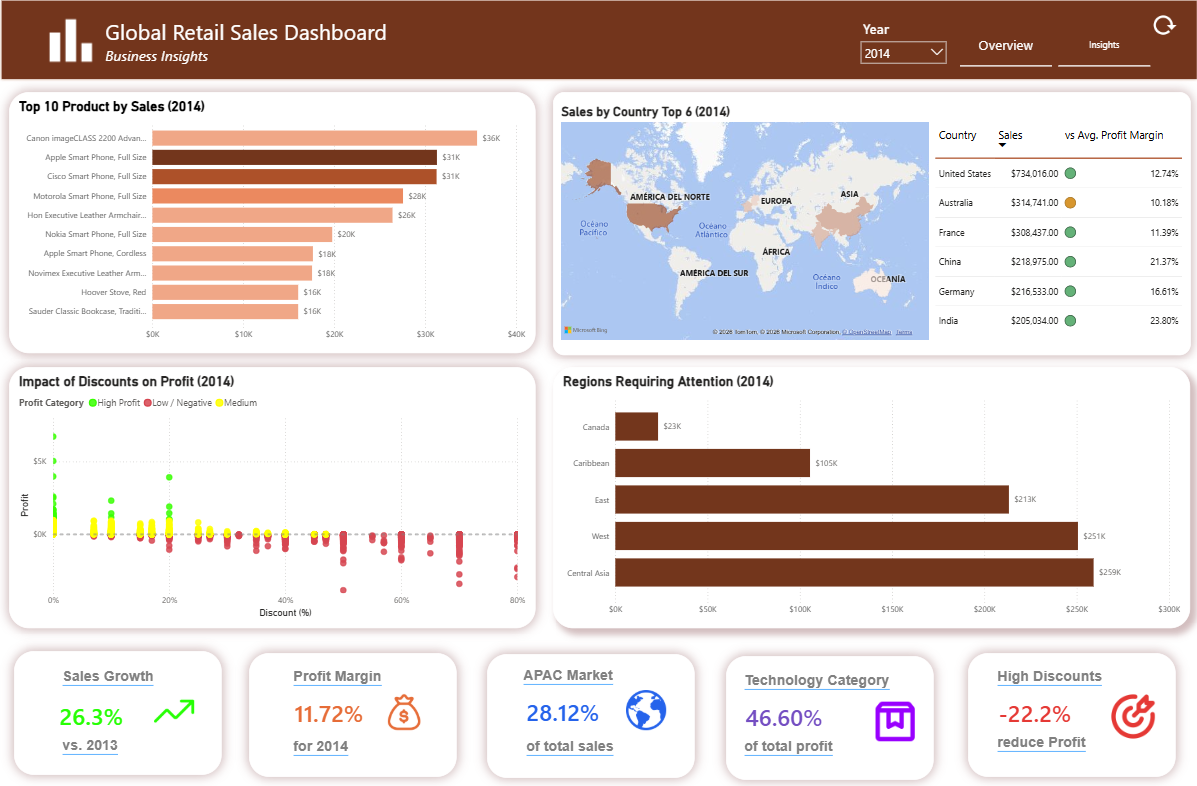

The page's visual inventory and layout, read from the dashboard file:
{"tool":"powerbi","page":{"name":"Insights","canvas":[1790,1180],"ordinal":1},"visuals":[{"type":"barChart","fields":{"Category":["DimProduct.ProductName"],"Y":["Table Measures.Total Sales"]},"box":[14.3,140,786,390],"z":0},{"type":"barChart","fields":{"Category":["DimGeography.Region"],"Y":["Table Measures.Total Sales"]},"box":[827.1,551.4,951.4,390],"z":0,"group":"g2"},{"type":"scatterChart","fields":{"X":["FactSales.Discount"],"Y":["FactSales.Profit"],"Series":["FactSales.Profit Category"]},"box":[14.3,551.4,785.7,390],"z":1000},{"type":"shape","box":[826.7,140,951.7,393.3],"z":1500,"group":"g1"},{"type":"group","id":"g1","title":"Group 1","box":[826.7,140,951.7,393.3],"z":2000},{"type":"group","id":"g2","title":"Group 2","box":[827.1,551.4,951.4,390],"z":3000},{"type":"group","id":"g3","title":"Group 3","box":[0,0,1791.7,125],"z":4000},{"type":"shape","box":[21.7,975,310,185],"z":4000,"group":"g6"},{"type":"group","id":"g4","title":"Group 4","box":[1085.4,982.1,310,185],"z":5000},{"type":"cardVisual","fields":{"Data":["Table Measures.Sales Growth %"]},"box":[60,1034.4,170,71.1],"z":5000,"group":"g6"},{"type":"group","id":"g5","title":"Group 4","box":[1446.7,978.3,310,185],"z":6000},{"type":"filledMap","fields":{"Category":["DimGeography.Country"]},"box":[834.1,157.5,558.9,357],"z":7000,"group":"g1"},{"type":"group","id":"g6","title":"Group 5","box":[21.7,975,310,185],"z":7000},{"type":"textbox","box":[88.9,1099.4,114.3,50],"z":7000,"group":"g6"},{"type":"group","id":"g7","title":"Group 6","box":[372.9,977.1,310,185],"z":8000},{"type":"textbox","box":[88.8,996.2,171.2,43.8],"z":8000,"group":"g6"},{"type":"pivotTable","fields":{"Rows":["DimGeography.Country"],"Values":["Table Measures.Total Sales","Table Measures.Profit Margin"]},"box":[1393,176.3,385.4,354.5],"z":8500,"group":"g1"},{"type":"group","id":"g8","title":"Group 7","box":[727.9,978.4,310,185],"z":9000},{"type":"image","box":[230,1028.6,60,71.4],"z":9000,"group":"g6"},{"type":"shape","box":[0,0,1791.7,125],"z":10000,"group":"g3"},{"type":"image","box":[1707.8,22.2,64.3,35.7],"z":10000},{"type":"shape","box":[372.9,977.1,310,185],"z":10000,"group":"g7"},{"type":"textbox","box":[154.5,21.7,631.1,96.7],"z":11000,"group":"g3"},{"type":"cardVisual","fields":{"Data":["Table Measures.Profit Margin"]},"box":[411.2,1028.8,173,71],"z":11000,"group":"g7"},{"type":"image","box":[59.6,15,94.9,96.7],"z":12000,"group":"g3"},{"type":"textbox","box":[434.5,995.5,157.1,44.3],"z":12000,"group":"g7"},{"type":"slicer","fields":{"Values":["DimDate.Year"]},"box":[1276.7,30,148.3,80],"z":13000,"group":"g3"},{"type":"textbox","box":[434.5,1098.8,108.9,40],"z":13000,"group":"g7"},{"type":"pageNavigator","box":[1434.4,36.7,284.6,65],"z":14000,"group":"g3"},{"type":"image","box":[574.5,1030,60,71.4],"z":14000,"group":"g7"},{"type":"shape","box":[727.9,978.4,310,185],"z":15000,"group":"g8"},{"type":"cardVisual","fields":{"Data":["Table Measures.Top Market Share %"]},"box":[758.1,1027.8,177.5,71.2],"z":16000,"group":"g8"},{"type":"textbox","box":[777.8,993.3,165.6,44.4],"z":17000,"group":"g8"},{"type":"textbox","box":[781.8,1099,148.8,50],"z":18000,"group":"g8"},{"type":"image","box":[935.6,1026.5,60,71.4],"z":19000,"group":"g8"},{"type":"shape","box":[1446.7,978.3,310,185],"z":21000,"group":"g5"},{"type":"shape","box":[1085.4,982.1,310,185],"z":21000,"group":"g4"},{"type":"textbox","box":[1485.9,996.6,241.7,48.3],"z":22000,"group":"g5"},{"type":"textbox","box":[1108.4,1001.6,241.7,48.3],"z":22000,"group":"g4"},{"type":"image","box":[1653.5,1029.8,78.3,85],"z":23000,"group":"g5"},{"type":"image","box":[1298.9,1037.7,78.3,85],"z":23000,"group":"g4"},{"type":"cardVisual","fields":{"Data":["Table Measures.High Discount Profit Margin"]},"box":[1463.1,1030.5,177.5,71.2],"z":24000,"group":"g5"},{"type":"cardVisual","fields":{"Data":["Table Measures.Top Category Profit Share %"]},"box":[1085.6,1035.5,177.5,71.2],"z":24000,"group":"g4"},{"type":"textbox","box":[1485.4,1094.9,165,48.3],"z":25000,"group":"g5"},{"type":"textbox","box":[1107.8,1100,165,48.3],"z":25000,"group":"g4"}]}

Visuals, with their boxes in screenshot pixels (x1, y1, x2, y2), scaled from the page's 1790x1180 canvas onto the 1197x786 screenshot:
barChart - DimProduct.ProductName x Table Measures.Total Sales: (10, 93, 535, 353)
barChart - DimGeography.Region x Table Measures.Total Sales: (553, 367, 1189, 627)
scatterChart - FactSales.Discount x FactSales.Profit: (10, 367, 535, 627)
shape: (553, 93, 1189, 355)
"Group 1" group: (553, 93, 1189, 355)
"Group 2" group: (553, 367, 1189, 627)
"Group 3" group: (0, 0, 1196, 83)
shape: (15, 649, 222, 773)
"Group 4" group: (726, 654, 933, 777)
cardVisual - Table Measures.Sales Growth %: (40, 689, 154, 736)
"Group 4" group: (967, 652, 1175, 775)
filledMap - DimGeography.Country: (558, 105, 932, 343)
"Group 5" group: (15, 649, 222, 773)
textbox: (59, 732, 136, 766)
"Group 6" group: (249, 651, 457, 774)
textbox: (59, 664, 174, 693)
pivotTable - DimGeography.Country x Table Measures.Total Sales: (932, 117, 1189, 354)
"Group 7" group: (487, 652, 694, 775)
image: (154, 685, 194, 733)
shape: (0, 0, 1196, 83)
image: (1142, 15, 1185, 39)
shape: (249, 651, 457, 774)
textbox: (103, 14, 525, 79)
cardVisual - Table Measures.Profit Margin: (275, 685, 391, 733)
image: (40, 10, 103, 74)
textbox: (291, 663, 396, 693)
slicer - DimDate.Year: (854, 20, 953, 73)
textbox: (291, 732, 363, 759)
pageNavigator: (959, 24, 1150, 68)
image: (384, 686, 424, 734)
shape: (487, 652, 694, 775)
cardVisual - Table Measures.Top Market Share %: (507, 685, 626, 732)
textbox: (520, 662, 631, 691)
textbox: (523, 732, 622, 765)
image: (626, 684, 666, 731)
shape: (967, 652, 1175, 775)
shape: (726, 654, 933, 777)
textbox: (994, 664, 1155, 696)
textbox: (741, 667, 903, 699)
image: (1106, 686, 1158, 743)
image: (869, 691, 921, 748)
cardVisual - Table Measures.High Discount Profit Margin: (978, 686, 1097, 734)
cardVisual - Table Measures.Top Category Profit Share %: (726, 690, 845, 737)
textbox: (993, 729, 1104, 761)
textbox: (741, 733, 851, 765)
